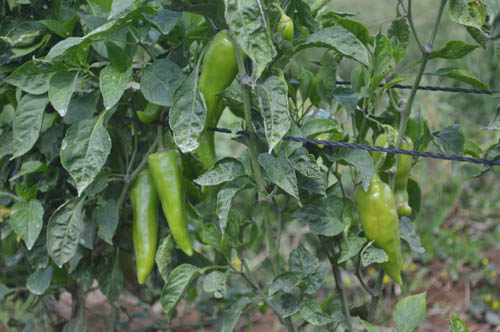ChiliPepper: (190, 34, 241, 163), (150, 147, 198, 249), (358, 184, 407, 283), (128, 171, 159, 291), (376, 135, 418, 212)
